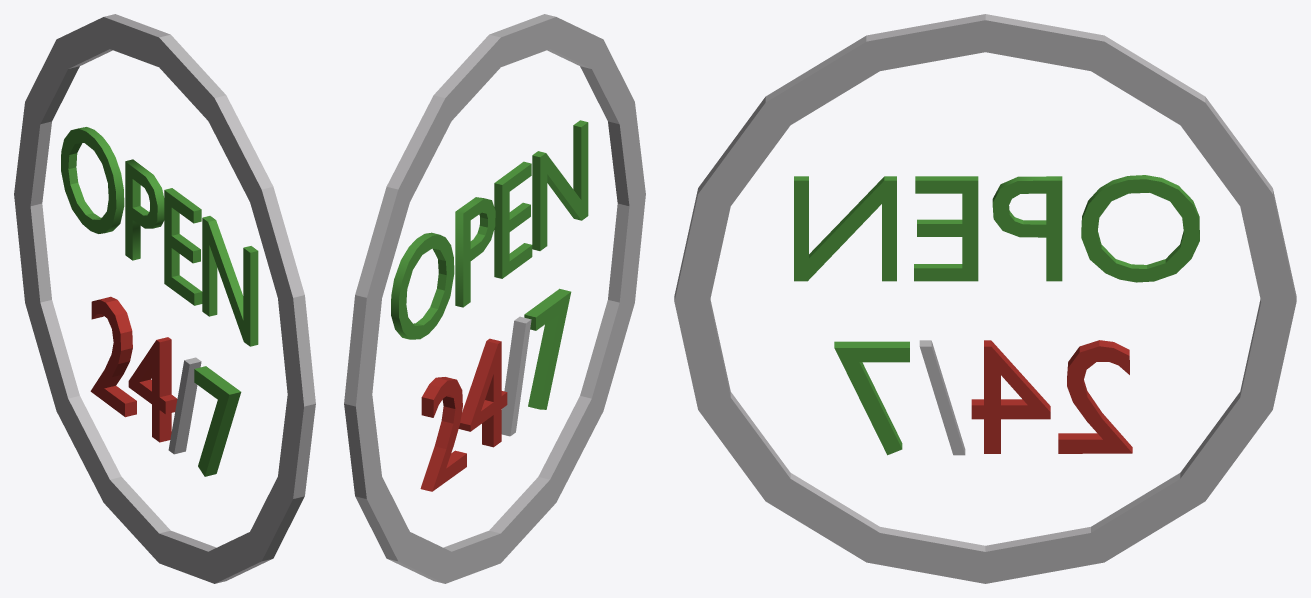
File: SM_shopNeon_02.glb
The picture shows the model from 3 angles, left to right: view 1: azimuth 30°, elevation 25°; view 2: azimuth 150°, elevation 25°; view 3: azimuth 270°, elevation 25°; orthographic projection. The views are drawn at different scales.
Parts seen in each view (by area): view 1: SM_shopNeon_02; view 2: SM_shopNeon_02; view 3: SM_shopNeon_02.
Boxes of the visible parts, x1=… form: SM_shopNeon_02: x1=14, y1=14, x2=315, y2=583; SM_shopNeon_02: x1=344, y1=14, x2=645, y2=583; SM_shopNeon_02: x1=674, y1=14, x2=1296, y2=583.
Bounding box in the file's own units: 0.0178 × 0.7591 × 0.7591.
1 material, 1 textured.
